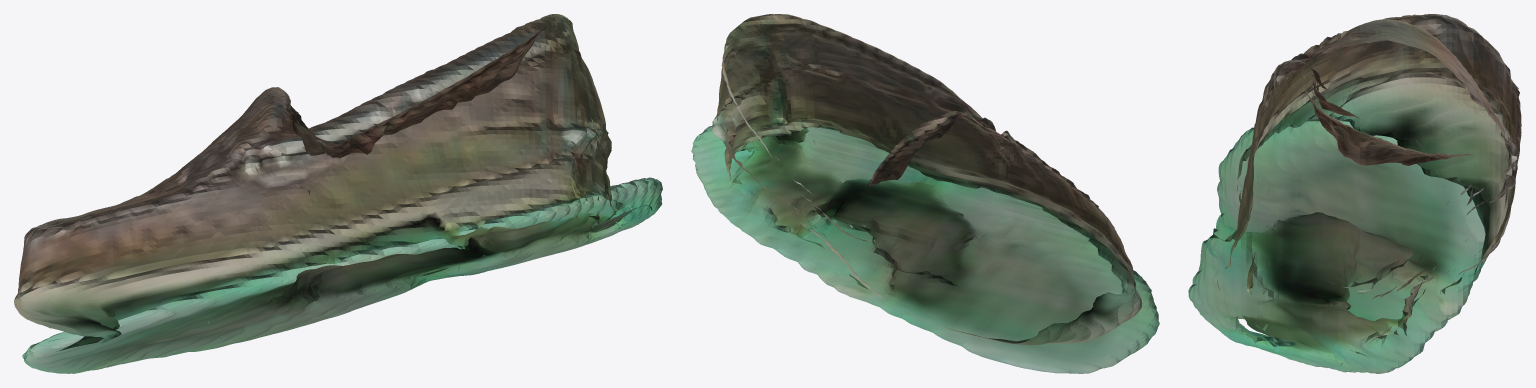
3 views of the same model, side by side, from view 1: azimuth 30°, elevation 25°; view 2: azimuth 150°, elevation 25°; view 3: azimuth 270°, elevation 25° (orthographic). The views are drawn at different scales.
Parts seen in each view (by area): view 1: geometry_0; view 2: geometry_0; view 3: geometry_0.
Boxes of the visible parts, box(x1,y1,x2,y2) form: geometry_0: box(14, 14, 662, 373); geometry_0: box(691, 14, 1159, 373); geometry_0: box(1188, 14, 1521, 373).
Bounding box in the file's own units: 1.6 × 0.7157 × 0.713.
